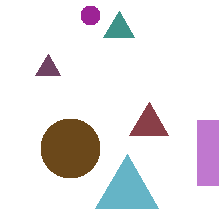circle: (41, 119, 99, 177), (81, 6, 99, 24)
rectangle: (197, 120, 218, 185)
triangle: (95, 154, 158, 208), (129, 102, 168, 135), (103, 11, 134, 37), (35, 54, 60, 75)
